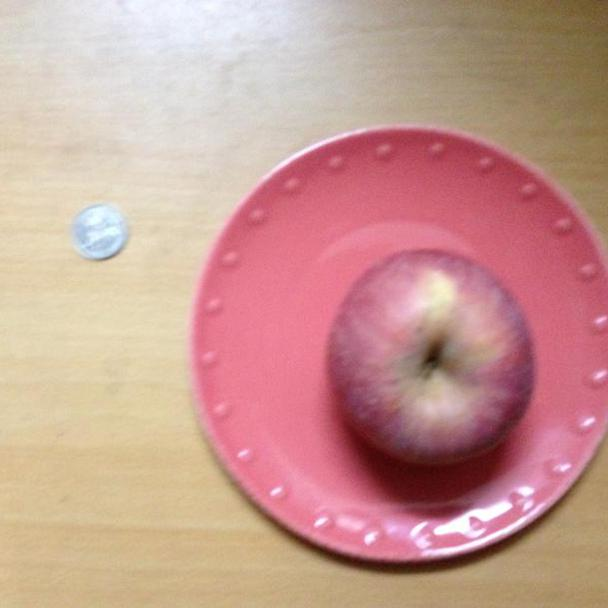apple: (327, 248, 540, 472)
